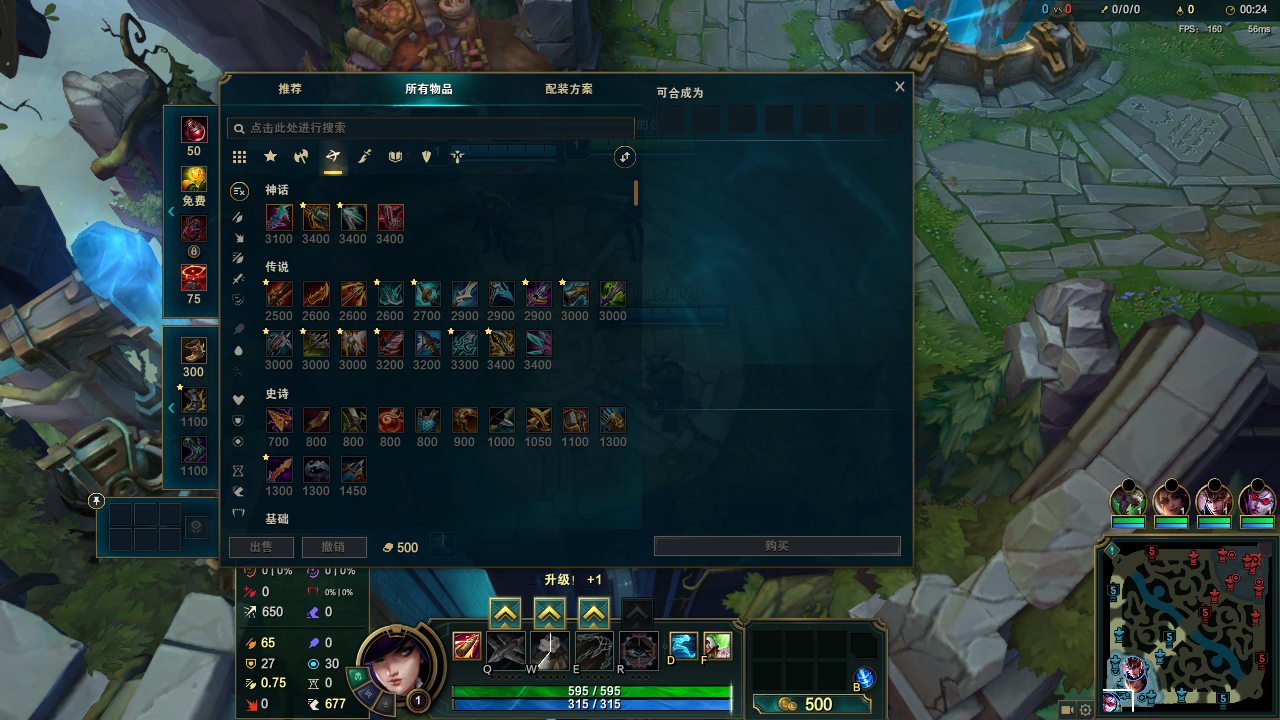Shenji: (583, 600, 605, 628), (489, 599, 514, 621), (539, 602, 561, 627)
TJ: (259, 75, 323, 108)
WFSJ: (911, 26, 1038, 80)
Yita: (1216, 689, 1230, 707)
